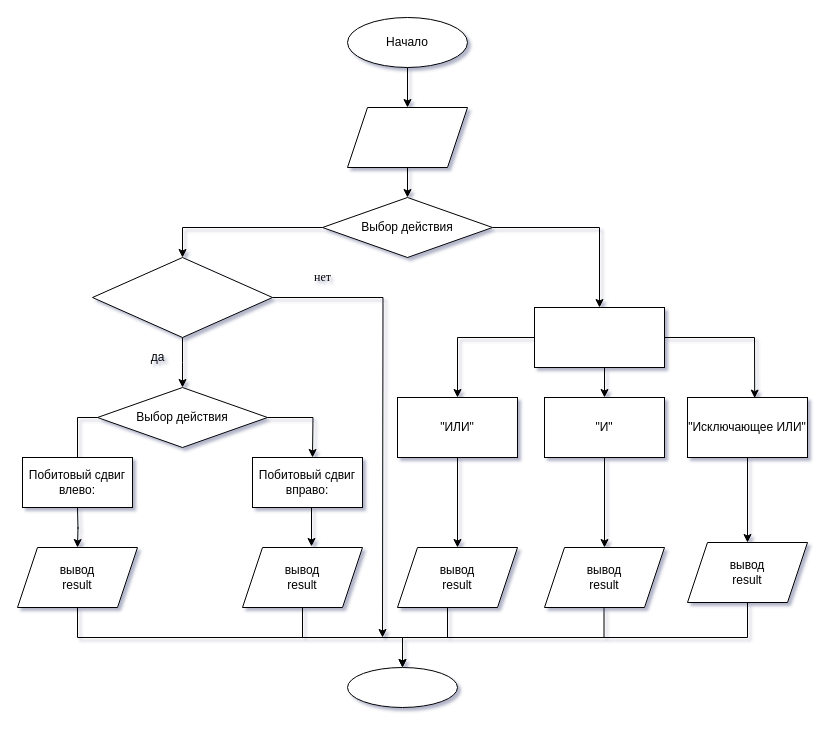
This 831x731 diagram has some shape labels left out. Here are the shapes that lost their labels. From the top down, the centre of each, then its label:
At [407,137]: "ввод числа 5,6".
At [182,297]: "если число = 5".
At [599,337]: "Побитовые логические операции:".
At [402,687]: "конец".
